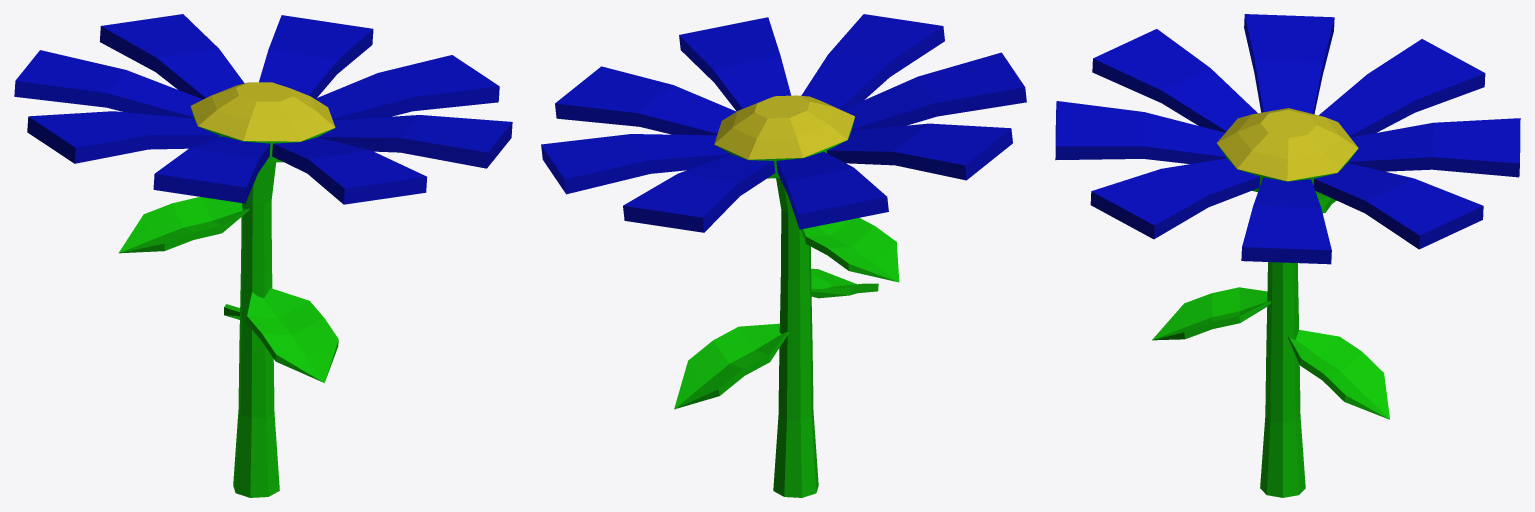
Rendered from Bloem DB.fbx.
3 views of the same model, side by side, from view 1: azimuth 30°, elevation 25°; view 2: azimuth 150°, elevation 25°; view 3: azimuth 270°, elevation 25° (orthographic). The views are drawn at different scales.
Visible parts, largest first — view 1: Cube.002; view 2: Cube.002; view 3: Cube.002.
Part boxes in pixels (x1,y1,x2,y2): Cube.002: (14,14,512,497); Cube.002: (541,14,1026,497); Cube.002: (1055,14,1520,497).
Size of the model in its own units: 0.2248 by 0.2048 by 0.2261.
